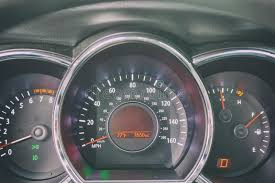Digital_Meter: (114, 131, 155, 139)
